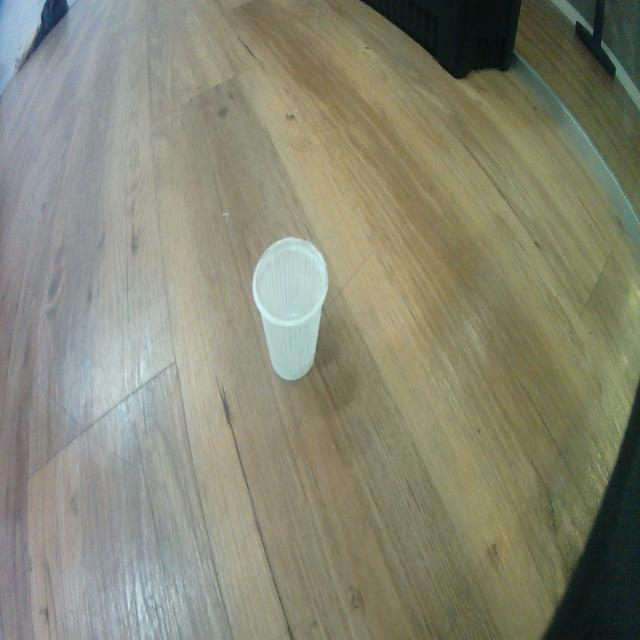planta: (252, 235, 330, 383)
